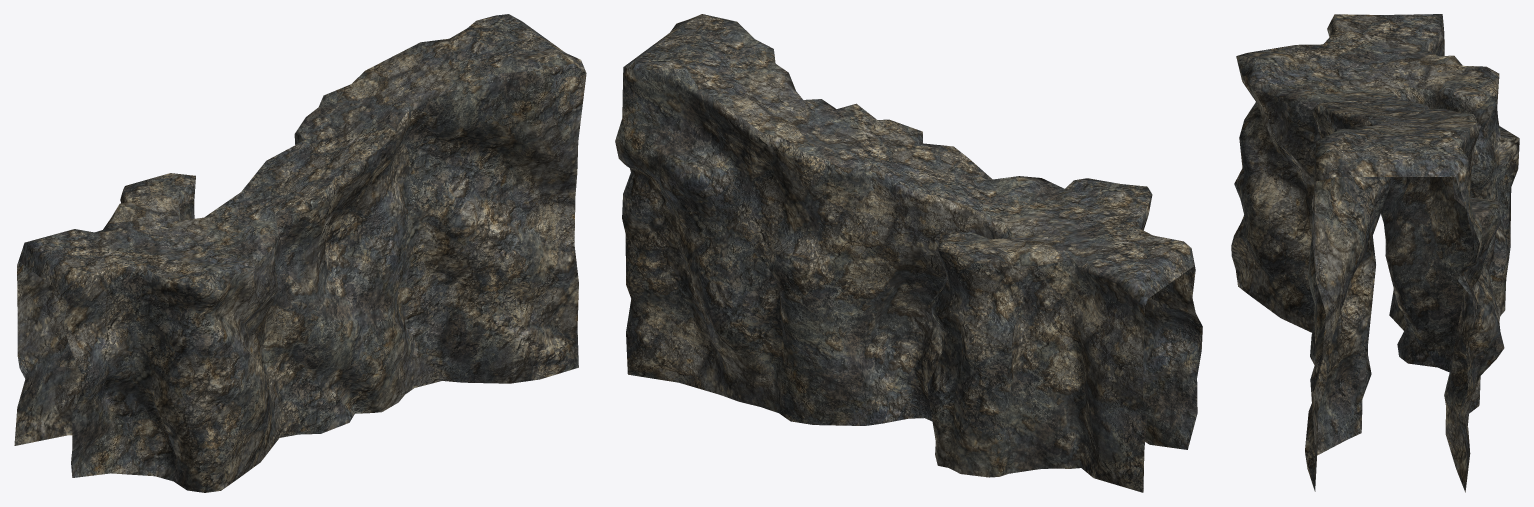
The model's file is Module14B.fbx.
3 views of the same model, side by side, from view 1: azimuth 30°, elevation 25°; view 2: azimuth 150°, elevation 25°; view 3: azimuth 270°, elevation 25° (orthographic). The views are drawn at different scales.
Visible parts, largest first — view 1: cave_el14B_1800_Group49529; view 2: cave_el14B_1800_Group49529; view 3: cave_el14B_1800_Group49529.
Part boxes in pixels (left/top/right/bottom): cave_el14B_1800_Group49529: left=14, top=14, right=586, bottom=492; cave_el14B_1800_Group49529: left=615, top=14, right=1202, bottom=492; cave_el14B_1800_Group49529: left=1231, top=14, right=1519, bottom=492.
Bounding box in the file's own units: 53.44 × 31.4 × 24.09.
